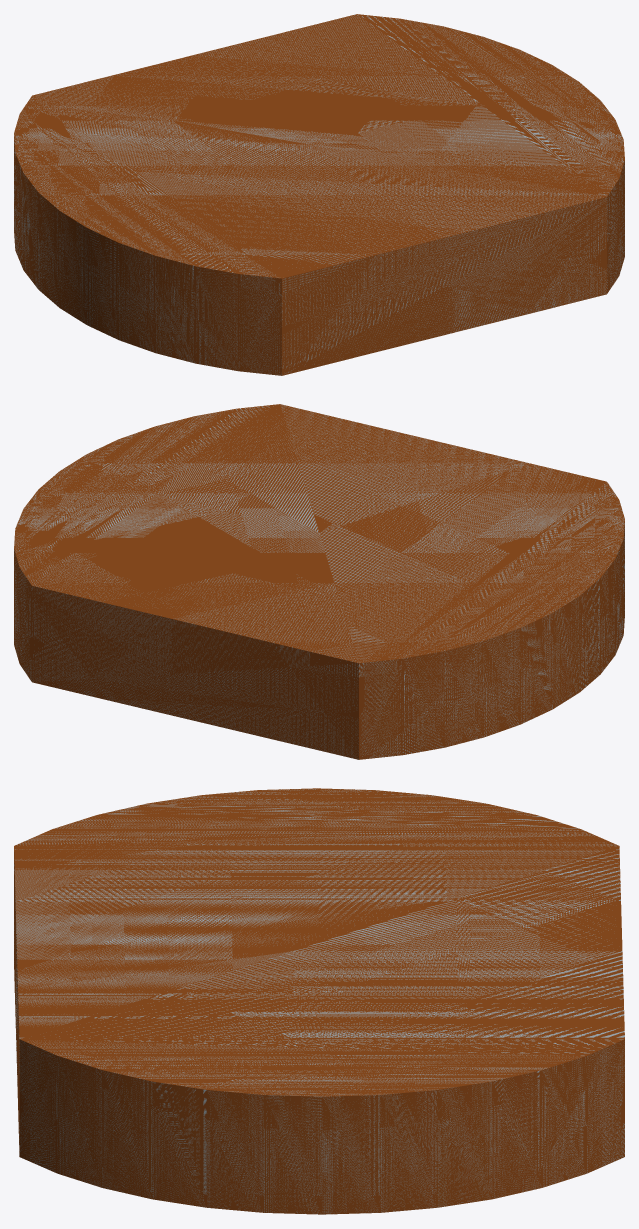
Rendered from clay.dae.
The picture shows the model from 3 angles, top to bottom: view 1: azimuth 30°, elevation 25°; view 2: azimuth 150°, elevation 25°; view 3: azimuth 270°, elevation 25°; orthographic projection. The views are drawn at different scales.
Visible parts, largest first — view 1: SketchUp; view 2: SketchUp; view 3: SketchUp.
Part boxes in pixels (x1,y1,x2,y2): SketchUp: [14, 14, 624, 375]; SketchUp: [14, 404, 624, 759]; SketchUp: [14, 788, 624, 1214].
Bounding box in the file's own units: 10.17 × 8.51 × 1.81.
